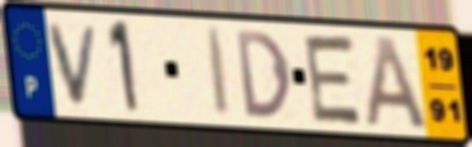1: (105, 17, 142, 117)
A: (362, 33, 432, 132)
D: (232, 28, 295, 121)
E: (301, 31, 366, 128)
I: (203, 25, 233, 121)
V: (44, 22, 103, 109)
